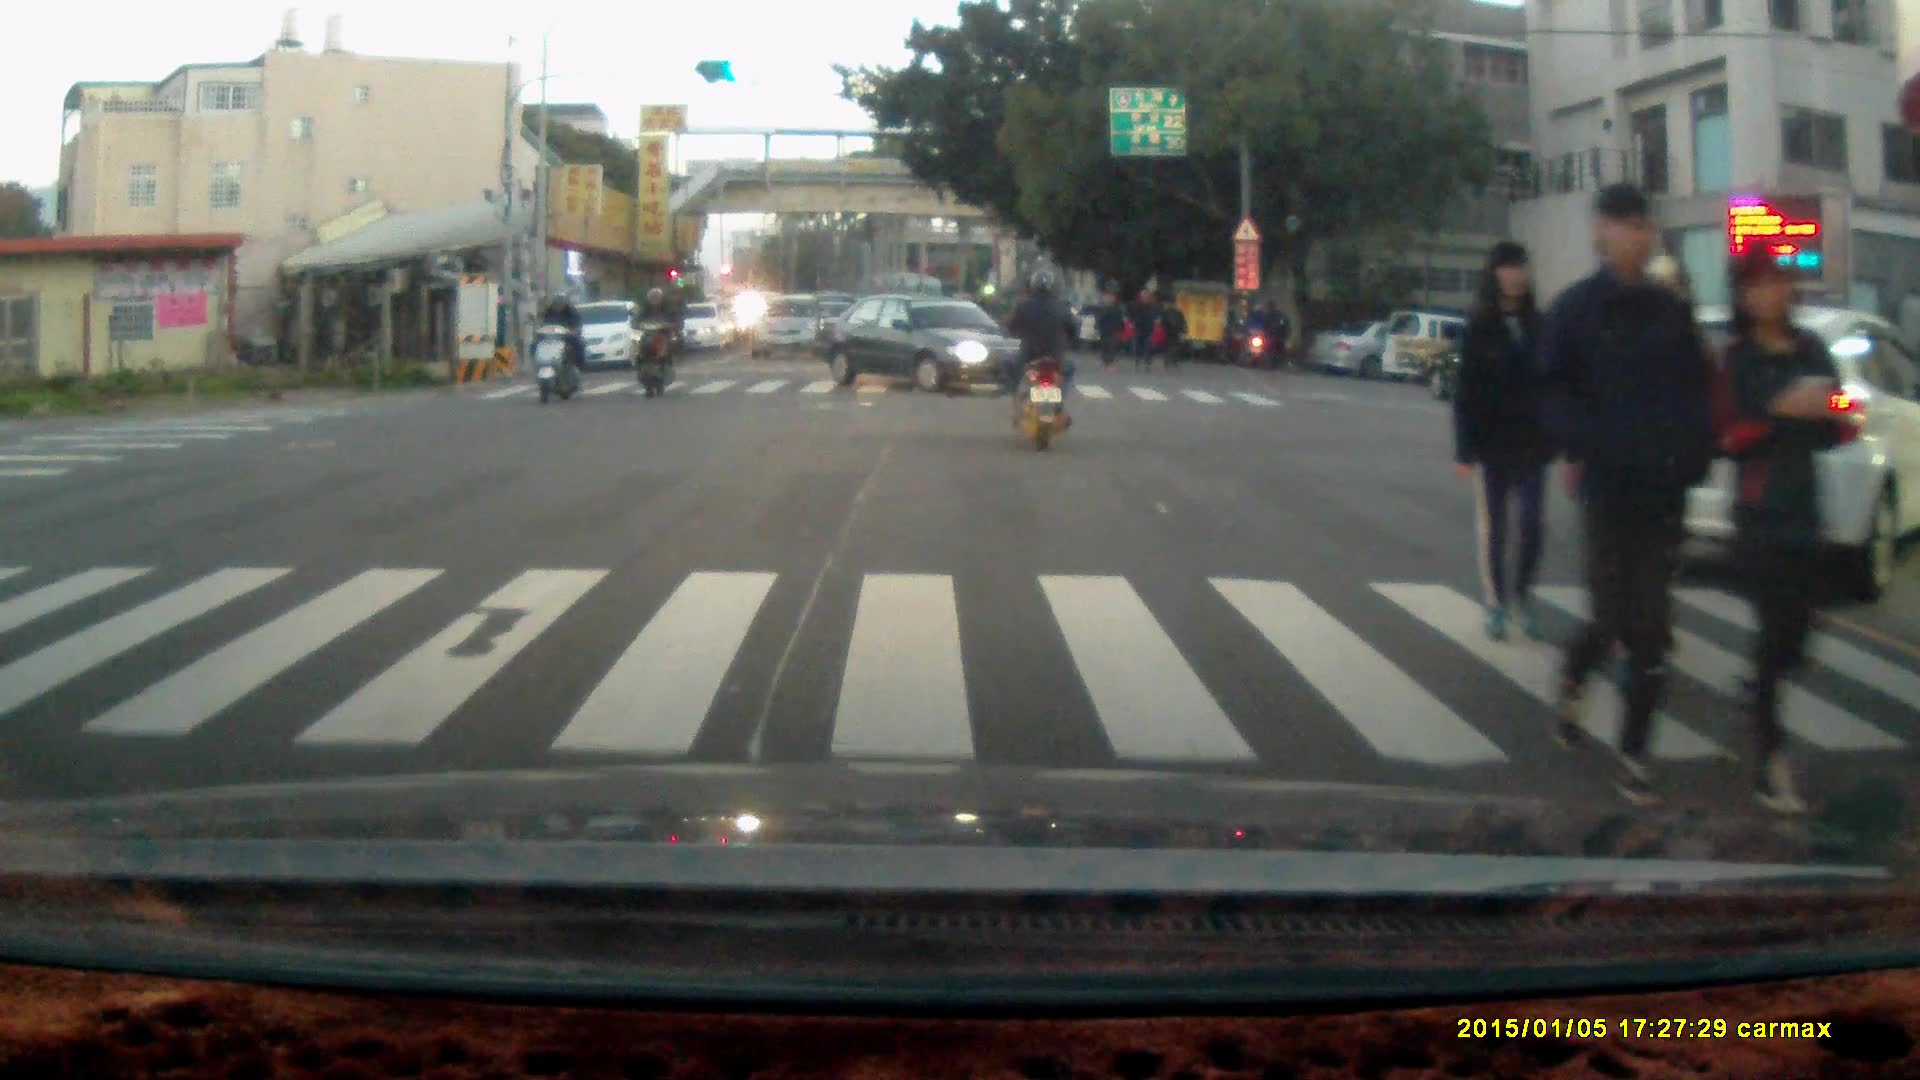pedestrian: (1530, 176, 1713, 810), (1707, 236, 1853, 823), (1449, 237, 1578, 653), (1126, 284, 1158, 377), (1153, 292, 1185, 377), (1092, 289, 1122, 371), (1257, 293, 1288, 370)
rider: (1005, 263, 1081, 451), (528, 282, 585, 404), (625, 280, 682, 397), (1232, 301, 1271, 366)
vehicle: (1618, 317, 1920, 611), (810, 287, 1052, 395), (1311, 312, 1481, 385), (551, 299, 657, 371), (748, 295, 831, 363)
